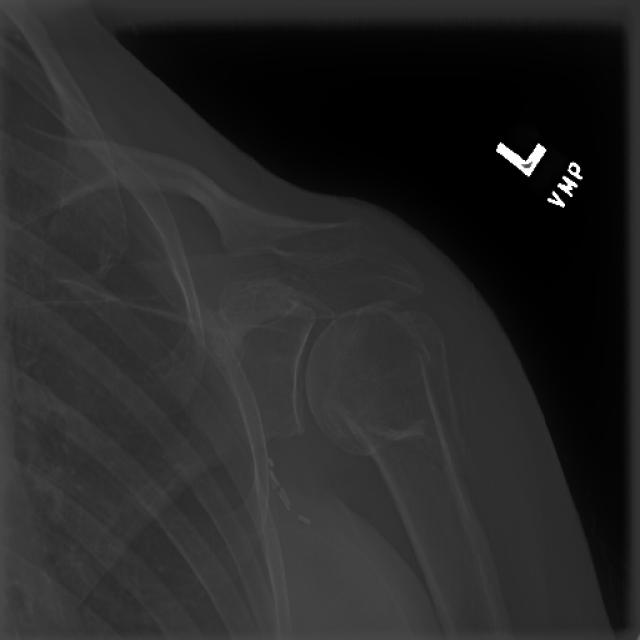shoulder fracture: (304, 379, 431, 499)
